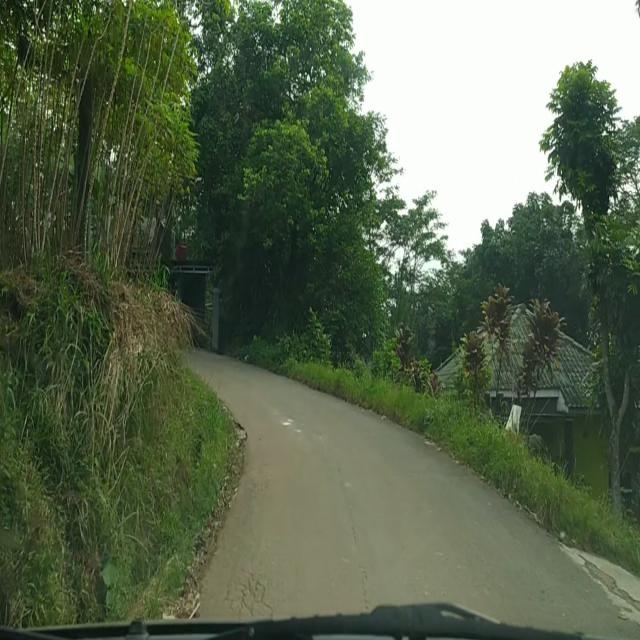Drain Hole: (221, 554, 277, 616)
